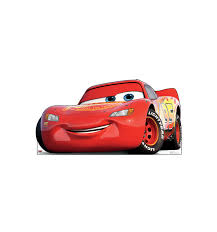mcqueen: (35, 79, 184, 157)
